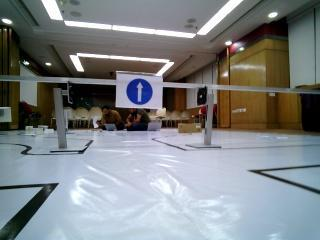straight: (115, 71, 165, 106)
